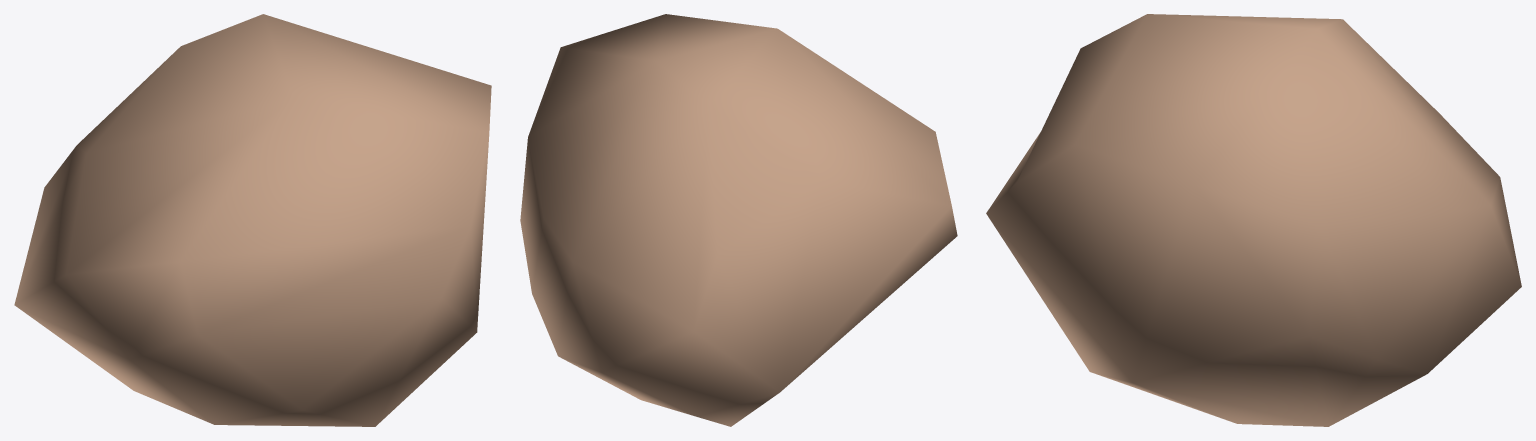
The model's file is ZMOBA_Rock_B_2.FBX.
3 views of the same model, side by side, from view 1: azimuth 30°, elevation 25°; view 2: azimuth 150°, elevation 25°; view 3: azimuth 270°, elevation 25° (orthographic). The views are drawn at different scales.
Parts seen in each view (by area): view 1: ZMOBA_Rock_B_2; view 2: ZMOBA_Rock_B_2; view 3: ZMOBA_Rock_B_2.
Part boxes in pixels (x1,y1,x2,y2): ZMOBA_Rock_B_2: (14,14,491,426); ZMOBA_Rock_B_2: (520,14,957,426); ZMOBA_Rock_B_2: (986,14,1521,426).
Size of the model in its own units: 174 by 146 by 181.
